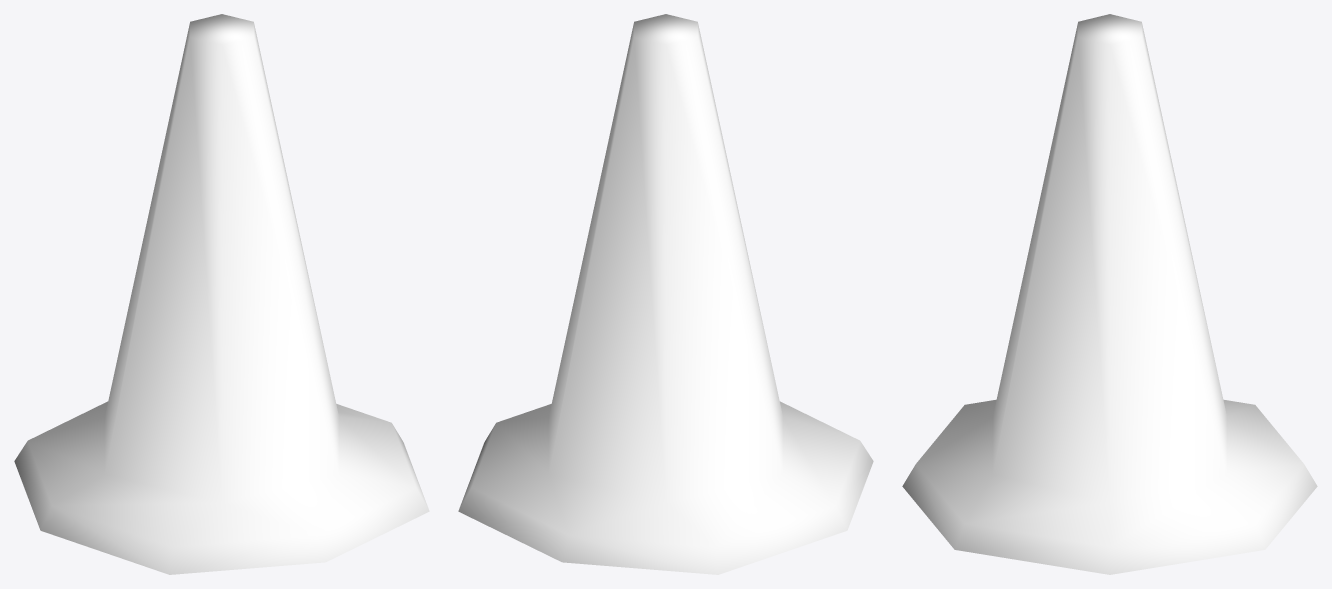
The picture shows the model from 3 angles, left to right: view 1: azimuth 30°, elevation 25°; view 2: azimuth 150°, elevation 25°; view 3: azimuth 270°, elevation 25°; orthographic projection.
Visible parts, largest first — view 1: cone_01; view 2: cone_01; view 3: cone_01.
Boxes of the visible parts, bbox=[...] form: cone_01: bbox=[14, 14, 429, 574]; cone_01: bbox=[458, 14, 873, 574]; cone_01: bbox=[902, 14, 1317, 574].
Bounding box in the file's own units: 0.4251 × 0.5111 × 0.4212.
1 material, 1 textured.
